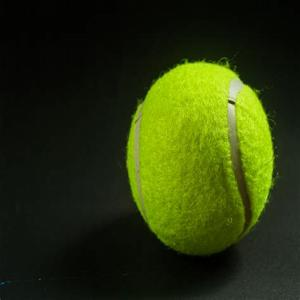Tennis: (126, 53, 279, 262)
